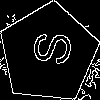S: (23, 28, 72, 67)
